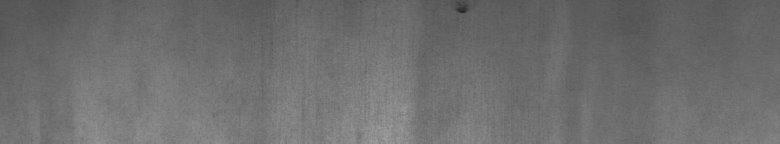fi: (452, 4, 472, 20)
